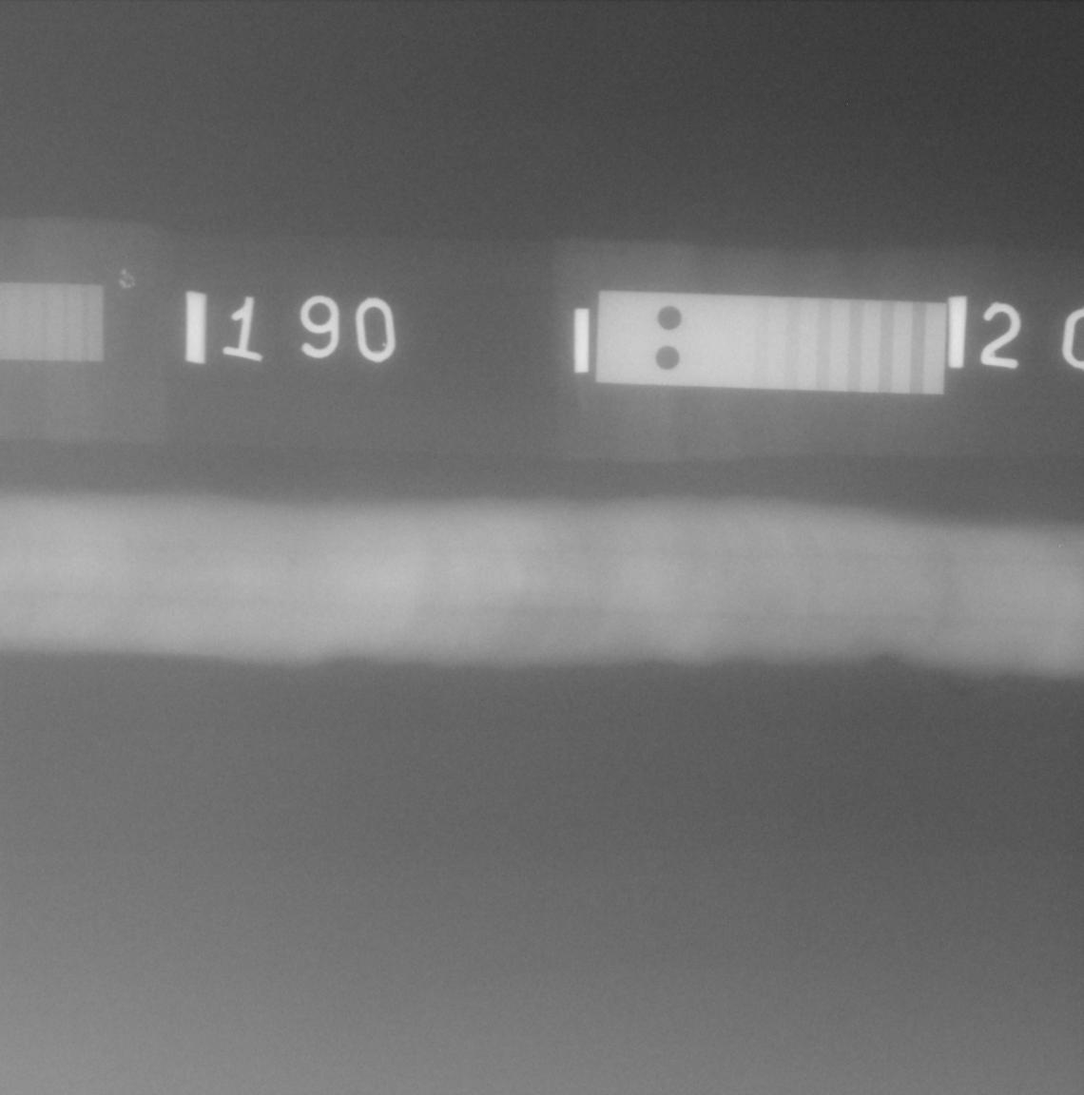Reference Standard 2: (595, 290, 948, 396)
